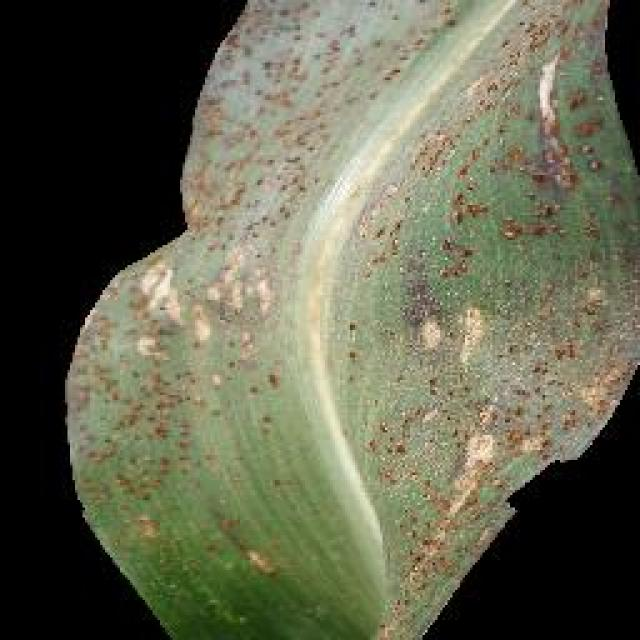Corn___Common_rust: (50, 2, 638, 640)
